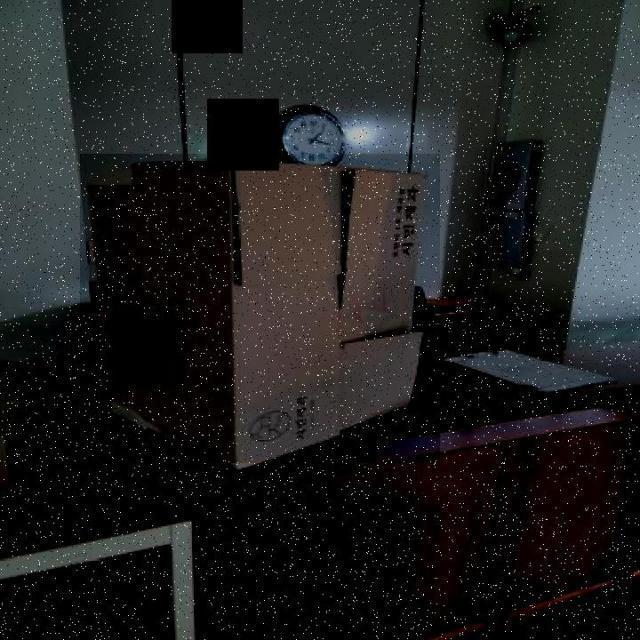box: (80, 154, 440, 464)
